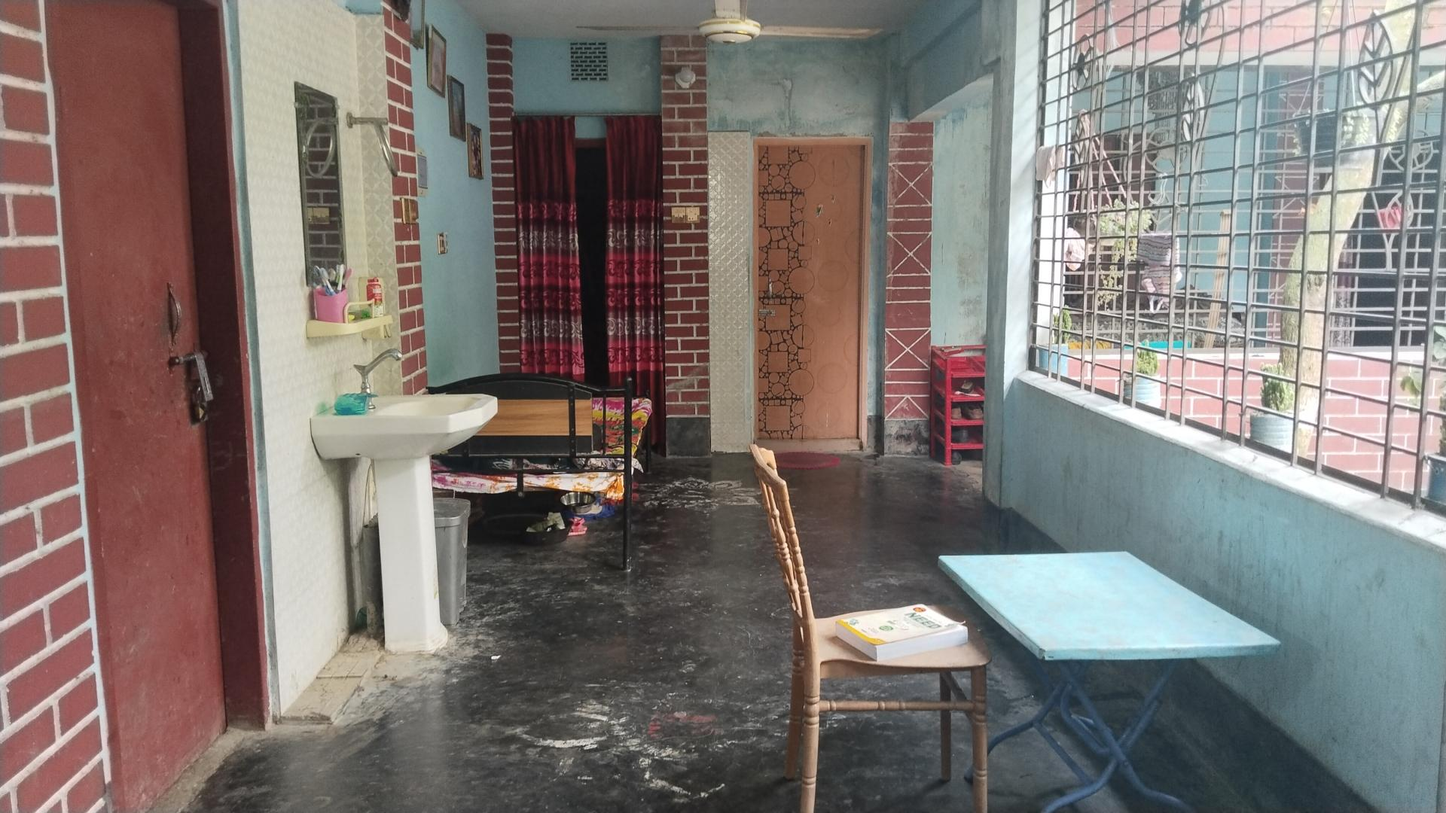Book: (838, 603, 969, 659)
Chair: (749, 440, 992, 813)
Door: (752, 140, 861, 440)
Table: (936, 552, 1279, 801)
